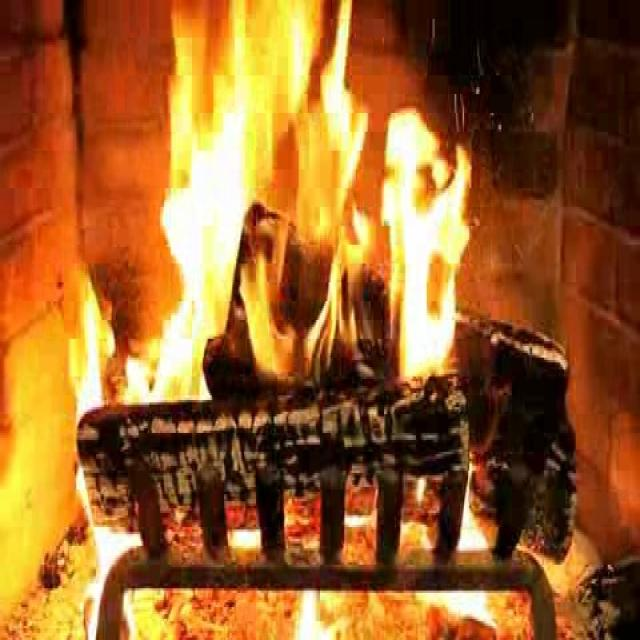fire: (150, 8, 483, 406)
